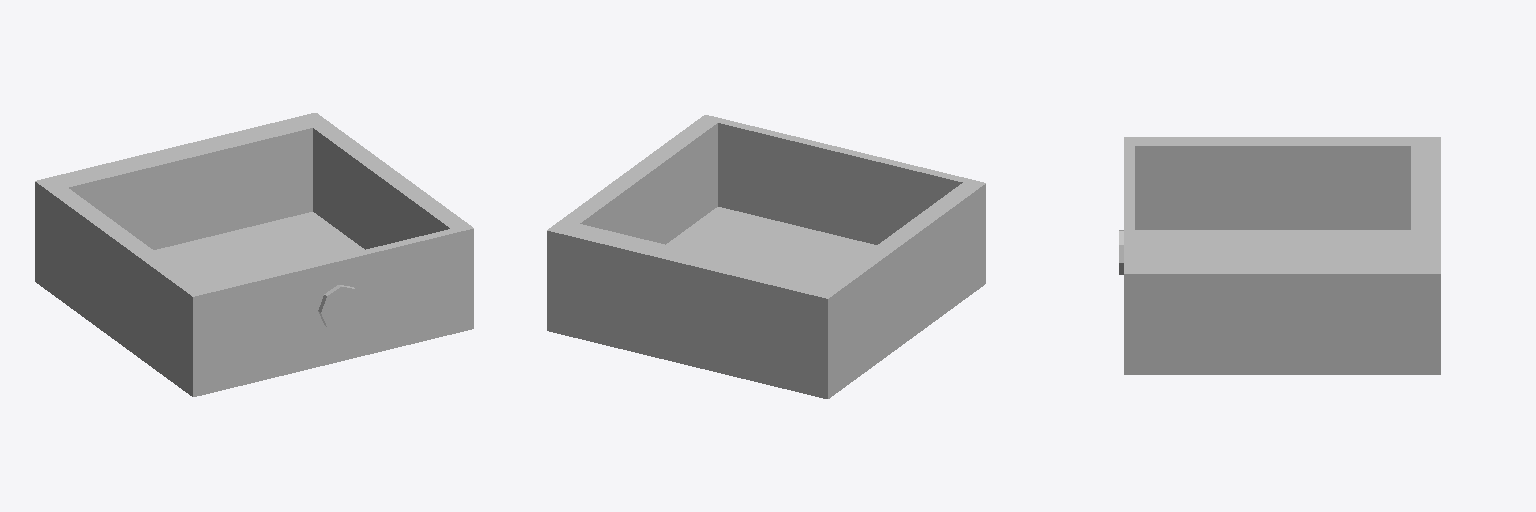
Rendered from drawer.obj.
3 renders of one model, left to right at view 1: azimuth 30°, elevation 25°; view 2: azimuth 150°, elevation 25°; view 3: azimuth 270°, elevation 25°, orthographic.
Parts seen in each view (by area): view 1: Drawer; view 2: Drawer; view 3: Drawer.
Boxes of the visible parts, <box> form: Drawer: <box>35,113,473,396</box>; Drawer: <box>547,115,985,398</box>; Drawer: <box>1119,137,1440,374</box>.
Bounding box in the file's own units: 2.02 × 0.6883 × 2.